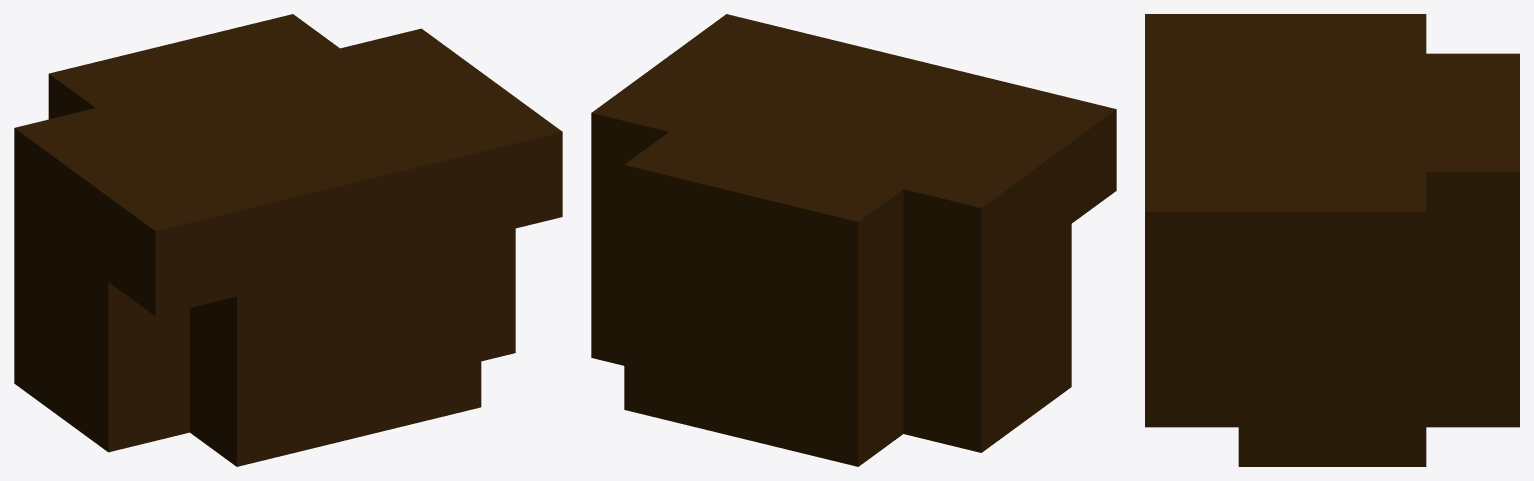
File: Spine2.obj
3 renders of one model, left to right at view 1: azimuth 30°, elevation 25°; view 2: azimuth 150°, elevation 25°; view 3: azimuth 270°, elevation 25°, orthographic. The views are drawn at different scales.
Bounding box in the file's own units: 5 × 3 × 4.
1 material, 1 textured.
